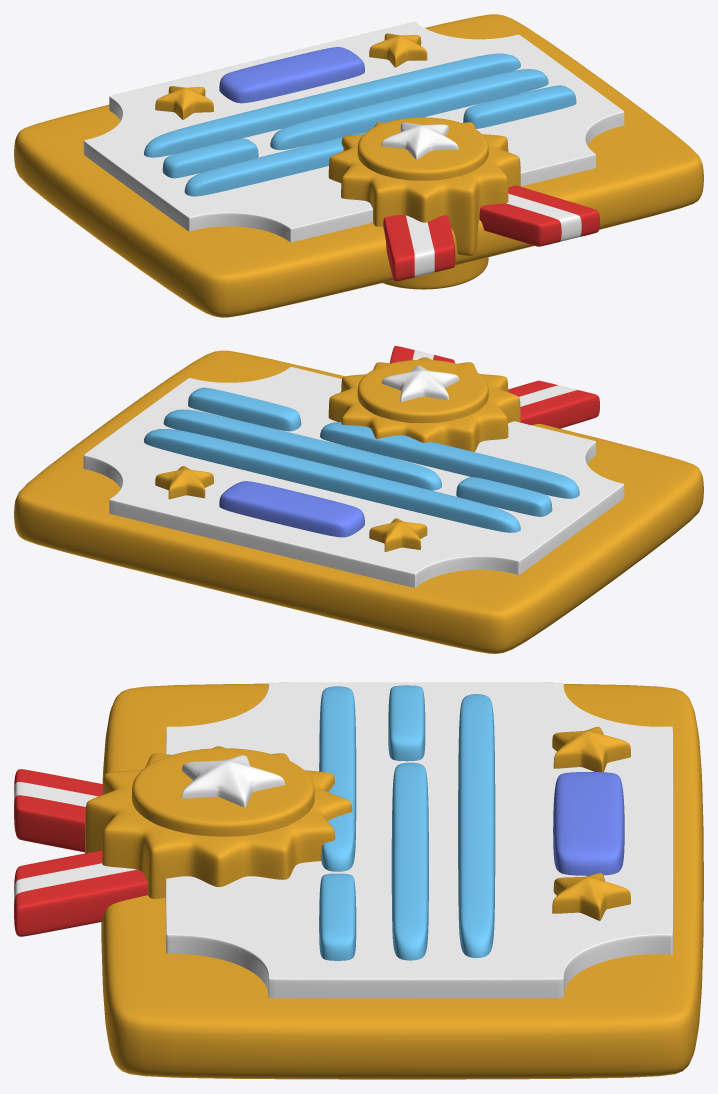
Rendered from Certificate-draco.glb.
3 views of the same model, one above another, from view 1: azimuth 30°, elevation 25°; view 2: azimuth 150°, elevation 25°; view 3: azimuth 270°, elevation 25° (orthographic). The views are drawn at different scales.
Parts seen in each view (by area): view 1: Cube, Cube.001, Star.001, Cube.003, Cube.008, Cylinder.001, Cube.004, Cube.002, Cube.005, Cube.007, Star, Cube.006 (+1 smaller); view 2: Cube, Cube.001, Cube.003, Cube.004, Star.001, Cube.005, Cylinder.001, Cube.002, Cube.008, Cube.007, Star, Cube.006 (+1 smaller); view 3: Cube.001, Cube, Star.001, Cube.008, Cylinder.001, Cube.003, Cube.002, Cube.004, Cube.005, Star, Star.002, Cube.007 (+1 smaller).
Boxes of the visible parts, x1,y1,x2,y2 form: Cube: [14, 14, 703, 317]; Cube.001: [83, 21, 624, 242]; Star.001: [328, 117, 520, 255]; Cube.003: [144, 53, 520, 157]; Cube.008: [383, 185, 599, 281]; Cylinder.001: [357, 117, 488, 289]; Cube.004: [270, 69, 548, 150]; Cube.002: [219, 47, 364, 103]; Cube.005: [184, 131, 367, 196]; Cube.007: [463, 85, 576, 128]; Star: [155, 33, 427, 119]; Cube.006: [162, 138, 258, 178]; Cube: [14, 350, 703, 653]; Cube.001: [83, 367, 624, 587]; Cube.003: [144, 429, 520, 532]; Cube.004: [163, 409, 441, 490]; Star.001: [328, 357, 520, 451]; Cube.005: [320, 422, 579, 498]; Cylinder.001: [357, 359, 488, 423]; Cube.002: [219, 481, 364, 537]; Cube.008: [389, 346, 599, 428]; Cube.007: [188, 387, 301, 431]; Star: [155, 466, 427, 551]; Cube.006: [456, 477, 552, 516]; Cube.001: [165, 682, 673, 998]; Cube: [101, 683, 703, 1079]; Star.001: [85, 746, 352, 898]; Cube.008: [14, 769, 147, 936]; Cylinder.001: [131, 748, 314, 836]; Cube.003: [458, 694, 495, 957]; Cube.002: [553, 772, 624, 875]; Cube.004: [391, 762, 428, 960]; Cube.005: [319, 686, 356, 871]; Star: [552, 726, 630, 920]; Star.002: [181, 755, 285, 807]; Cube.007: [319, 873, 356, 960].
Bounding box in the file's own units: 4.43 × 1.12 × 3.7.
